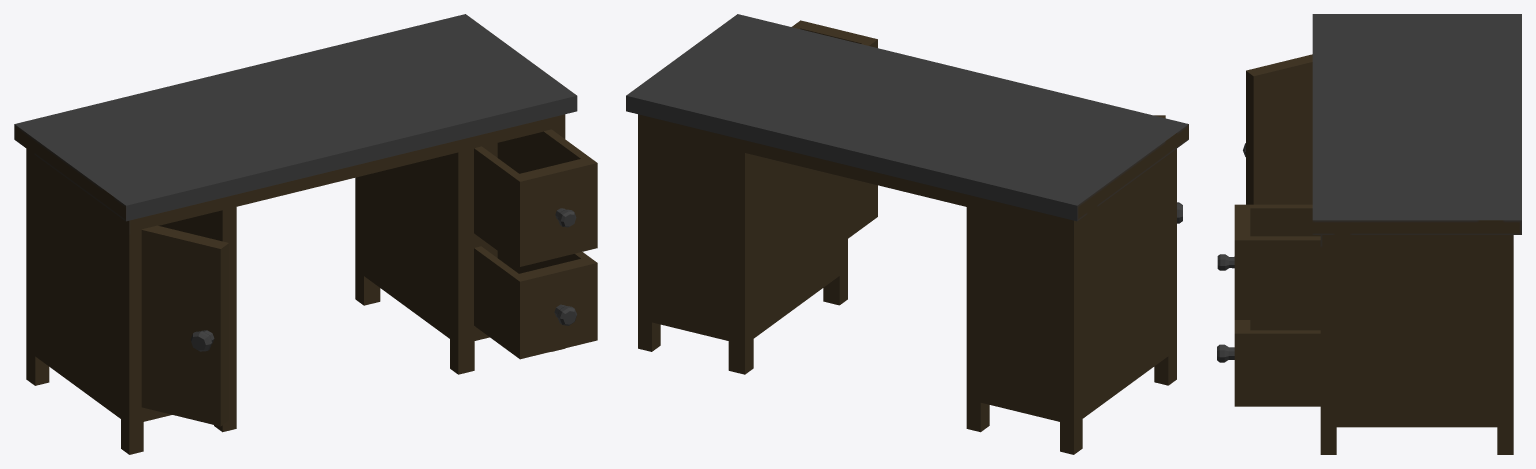
Rendered from DeskFBX.fbx.
3 views of the same model, side by side, from view 1: azimuth 30°, elevation 25°; view 2: azimuth 150°, elevation 25°; view 3: azimuth 270°, elevation 25° (orthographic). The views are drawn at different scales.
Visible parts, largest first — view 1: polySurface1, polySurface4, polySurface2, polySurface3; view 2: polySurface1, polySurface3, polySurface2; view 3: polySurface1, polySurface2, polySurface4, polySurface3.
Boxes of the visible parts, <box> form: polySurface1: <box>14,14,577,454</box>; polySurface4: <box>141,225,228,426</box>; polySurface2: <box>474,129,597,266</box>; polySurface3: <box>474,244,597,359</box>; polySurface1: <box>626,14,1188,454</box>; polySurface3: <box>848,178,877,238</box>; polySurface2: <box>792,20,877,47</box>; polySurface1: <box>1312,14,1521,454</box>; polySurface2: <box>1217,204,1320,319</box>; polySurface4: <box>1243,54,1312,204</box>; polySurface3: <box>1217,320,1320,406</box>.
Bounding box in the file's own units: 4.73 × 2.55 × 2.95.
